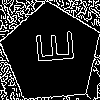E: (26, 28, 75, 67)
